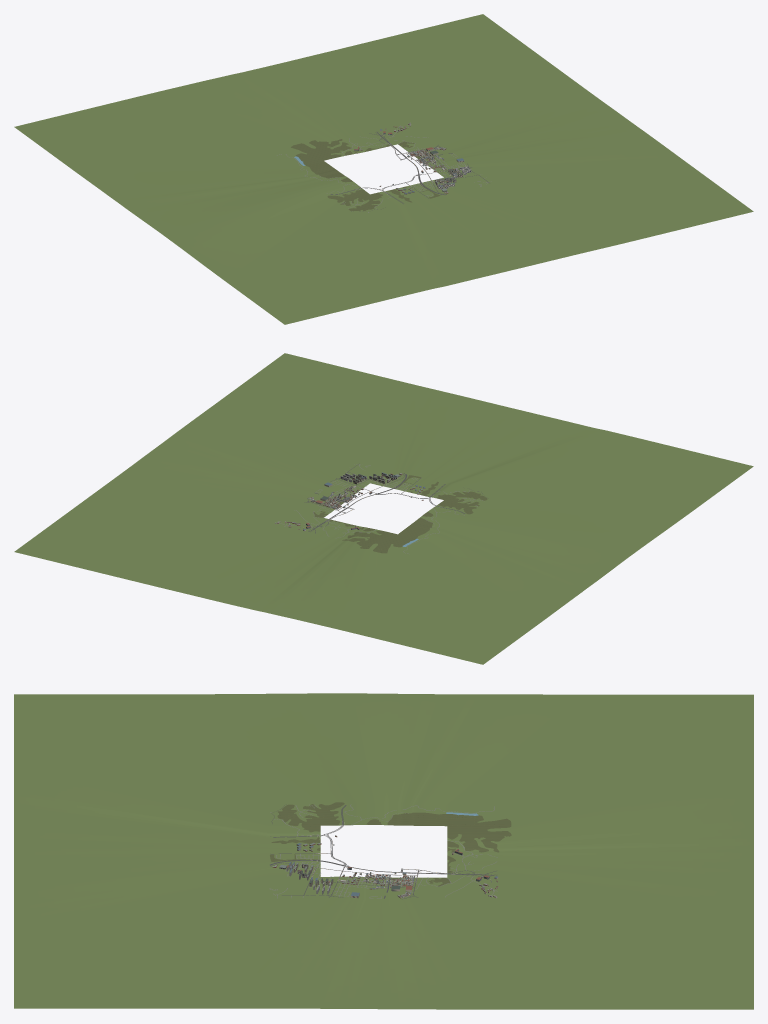
3 views of the same model, one above another, from view 1: azimuth 30°, elevation 25°; view 2: azimuth 150°, elevation 25°; view 3: azimuth 270°, elevation 25° (orthographic). The views are drawn at different scales.
Parts seen in each view (by area): view 1: ctx-ground, ctx-buildings, ctx-roads, ctx-streets; view 2: ctx-ground, ctx-buildings, ctx-roads; view 3: ctx-ground, ctx-buildings, ctx-roads, ctx-streets.
Boxes of the visible parts, x1,y1,x2,y2 form: ctx-ground: (14, 14, 753, 324); ctx-buildings: (354, 122, 471, 194); ctx-roads: (330, 132, 489, 211); ctx-streets: (277, 125, 491, 212); ctx-ground: (14, 353, 753, 664); ctx-buildings: (275, 472, 425, 531); ctx-roads: (304, 463, 488, 533); ctx-ground: (14, 693, 753, 1009); ctx-buildings: (272, 835, 498, 898); ctx-roads: (270, 804, 496, 899); ctx-streets: (269, 804, 497, 898).
Size of the model in its own units: 7600 by 58.77 by 7600.
17 materials, 13 textured.
